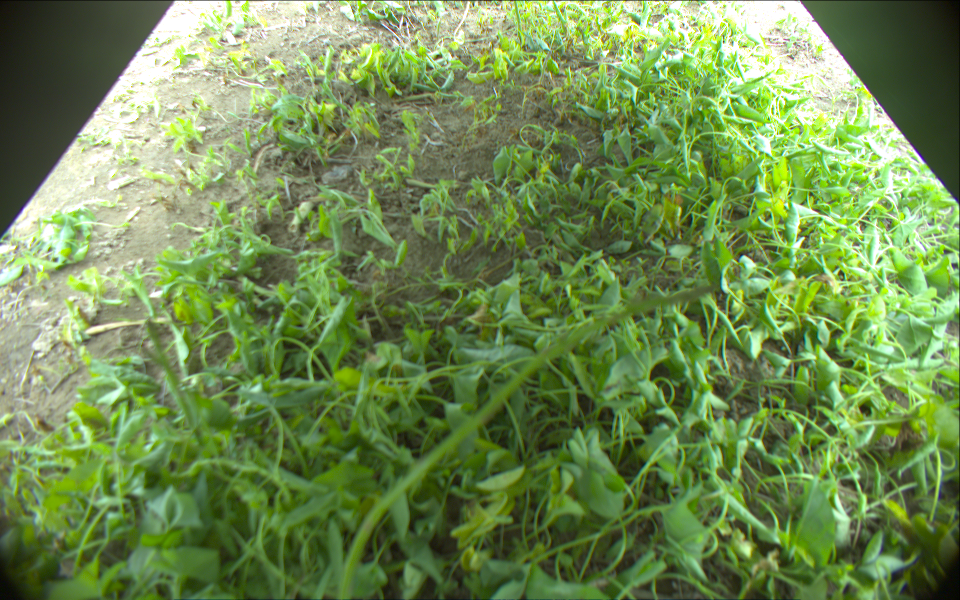aspa: (340, 281, 726, 600), (144, 319, 203, 439), (554, 1, 569, 29), (513, 1, 523, 37)
